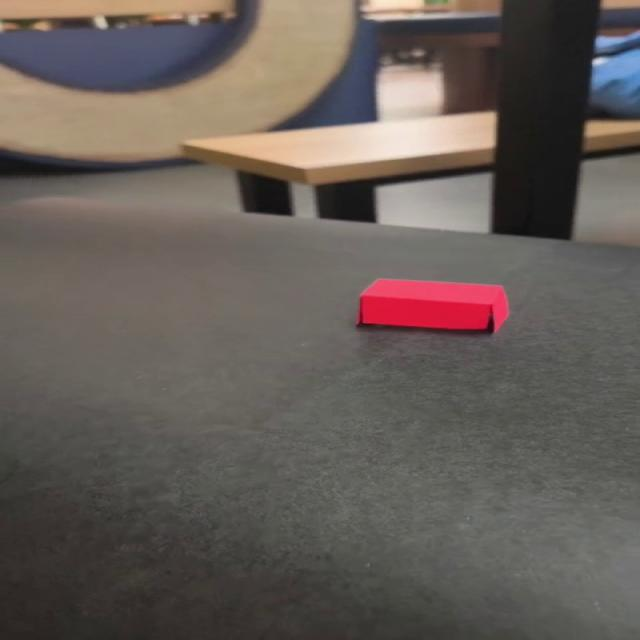red block: (356, 277, 509, 333)
